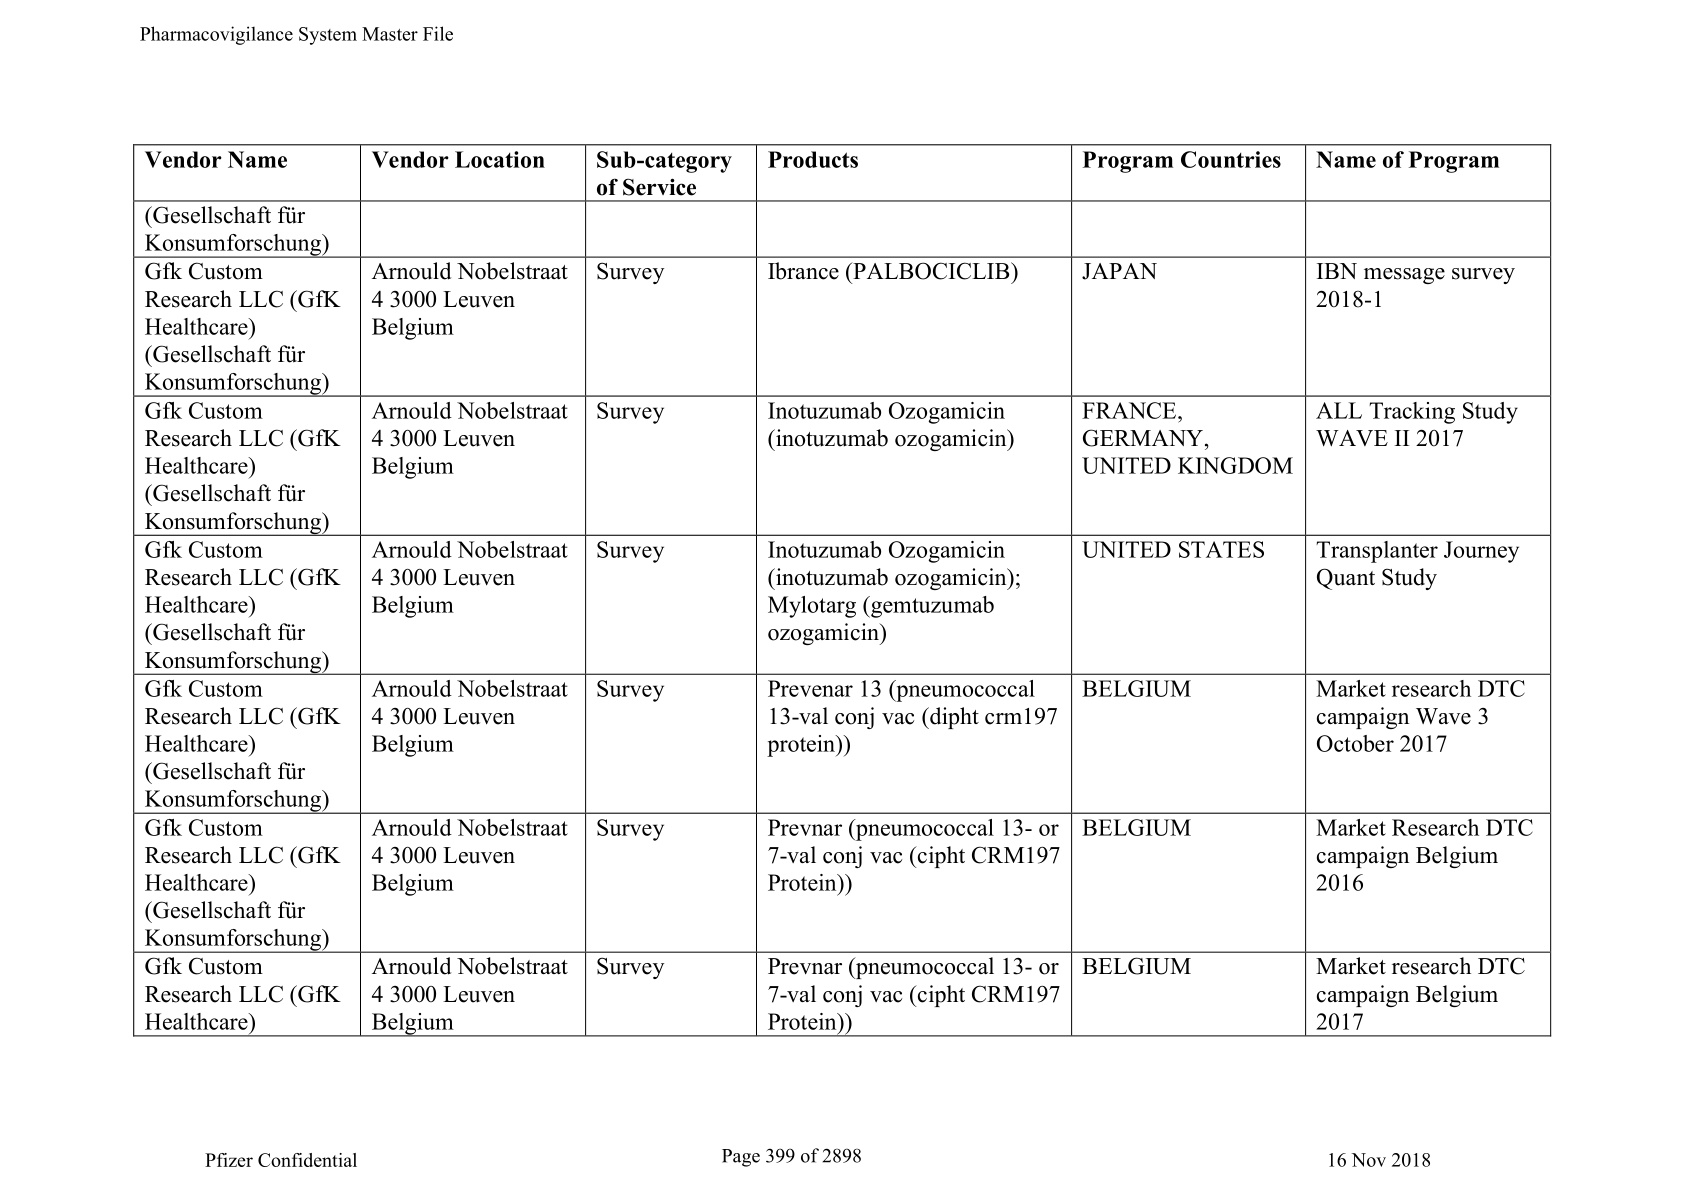full_lined: (131, 142, 1552, 1038)
